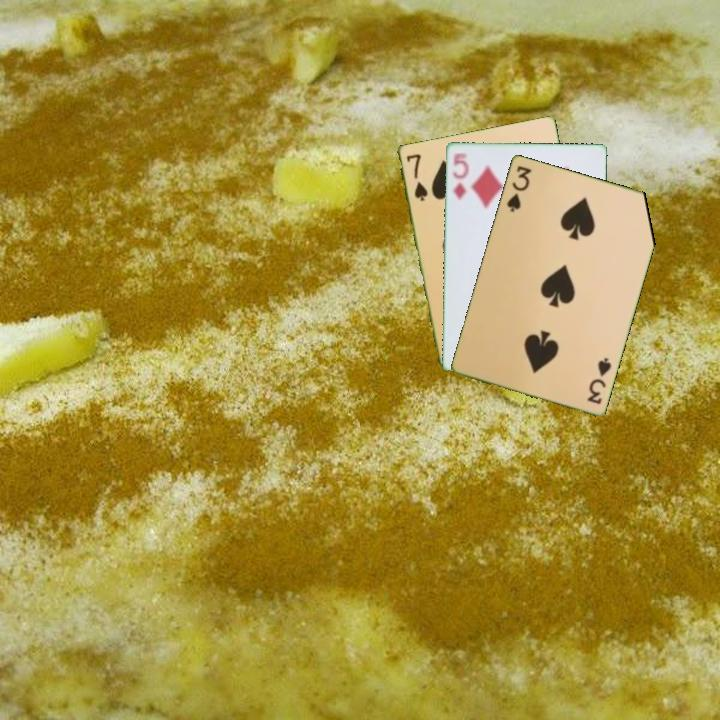3s: (503, 162, 534, 215), (583, 354, 614, 407)
5d: (449, 149, 471, 203)
7s: (402, 150, 430, 204)
